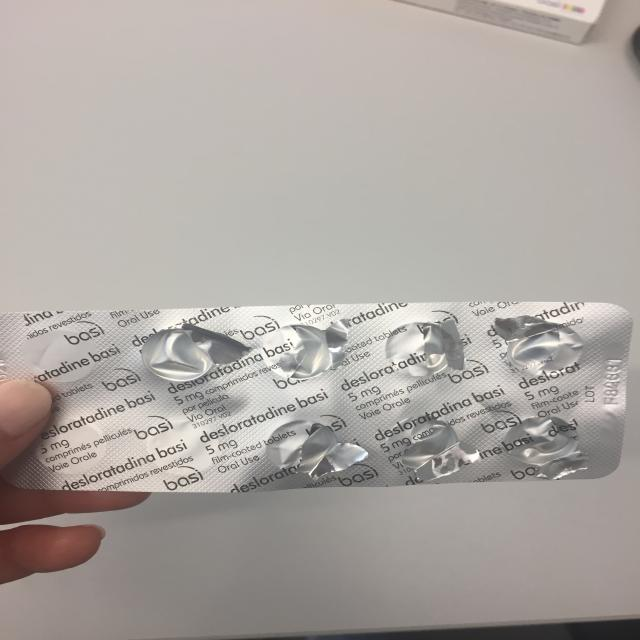Empty: (381, 315, 468, 381), (136, 326, 233, 385), (257, 322, 352, 382), (496, 317, 586, 378), (501, 414, 591, 475), (262, 418, 351, 479), (383, 417, 467, 478)
Pill: (140, 414, 228, 478), (18, 325, 106, 385), (23, 418, 111, 478)
